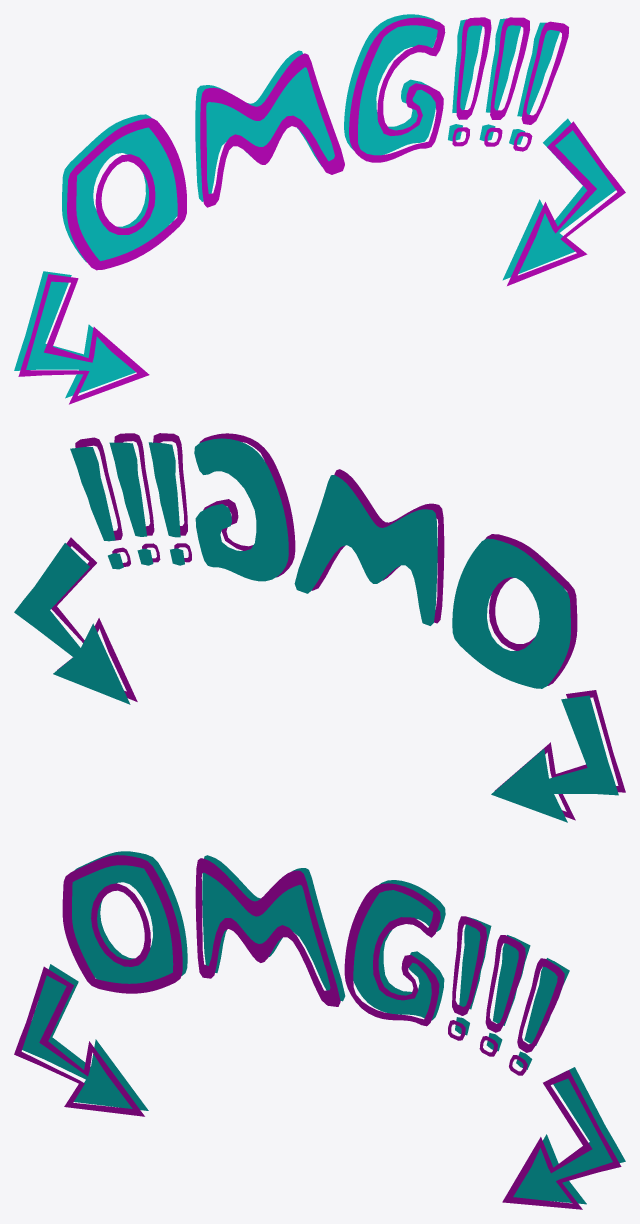
Rendered from mesh_text_omg.fbx.
The picture shows the model from 3 angles, top to bottom: view 1: azimuth 30°, elevation 25°; view 2: azimuth 150°, elevation 25°; view 3: azimuth 330°, elevation 25°; orthographic projection.
Parts seen in each view (by area): view 1: mesh_text_omg, mesh_text_omg1, mesh_text_omg2, mesh_text_omg4, mesh_text_omg3, mesh_text_omg5; view 2: mesh_text_omg, mesh_text_omg1, mesh_text_omg4, mesh_text_omg2, mesh_text_omg3, mesh_text_omg5; view 3: mesh_text_omg, mesh_text_omg1, mesh_text_omg4, mesh_text_omg2, mesh_text_omg3, mesh_text_omg5.
Boxes of the visible parts, x1,y1,x2,y2 form: mesh_text_omg: (62,14,559,262); mesh_text_omg1: (67,17,568,270); mesh_text_omg2: (14,271,135,398); mesh_text_omg4: (502,118,615,280); mesh_text_omg3: (18,274,149,404); mesh_text_omg5: (507,121,625,285); mesh_text_omg: (70,438,570,688); mesh_text_omg1: (75,433,577,685); mesh_text_omg4: (14,543,130,704); mesh_text_omg2: (491,695,618,822); mesh_text_omg3: (495,690,625,820); mesh_text_omg5: (51,537,137,701); mesh_text_omg: (72,851,569,1069); mesh_text_omg1: (62,855,564,1075); mesh_text_omg4: (513,1067,625,1204); mesh_text_omg2: (22,964,148,1110); mesh_text_omg3: (14,966,144,1116); mesh_text_omg5: (502,1070,621,1209).
Size of the model in its own units: 0.1288 by 0.0615 by 0.00212.
